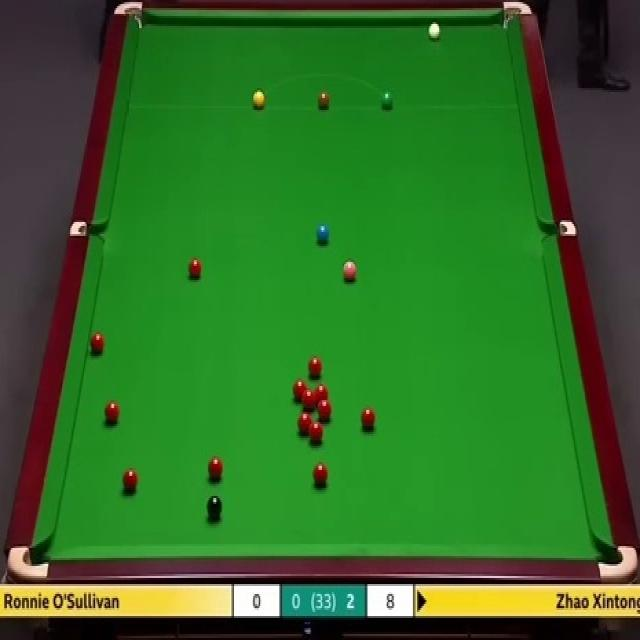pocket: (598, 539, 638, 586), (8, 539, 48, 583), (499, 1, 534, 37), (112, 1, 144, 34), (71, 218, 105, 236), (540, 222, 575, 238)
